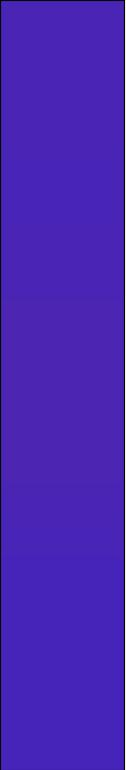safe: (9, 15, 116, 759)
